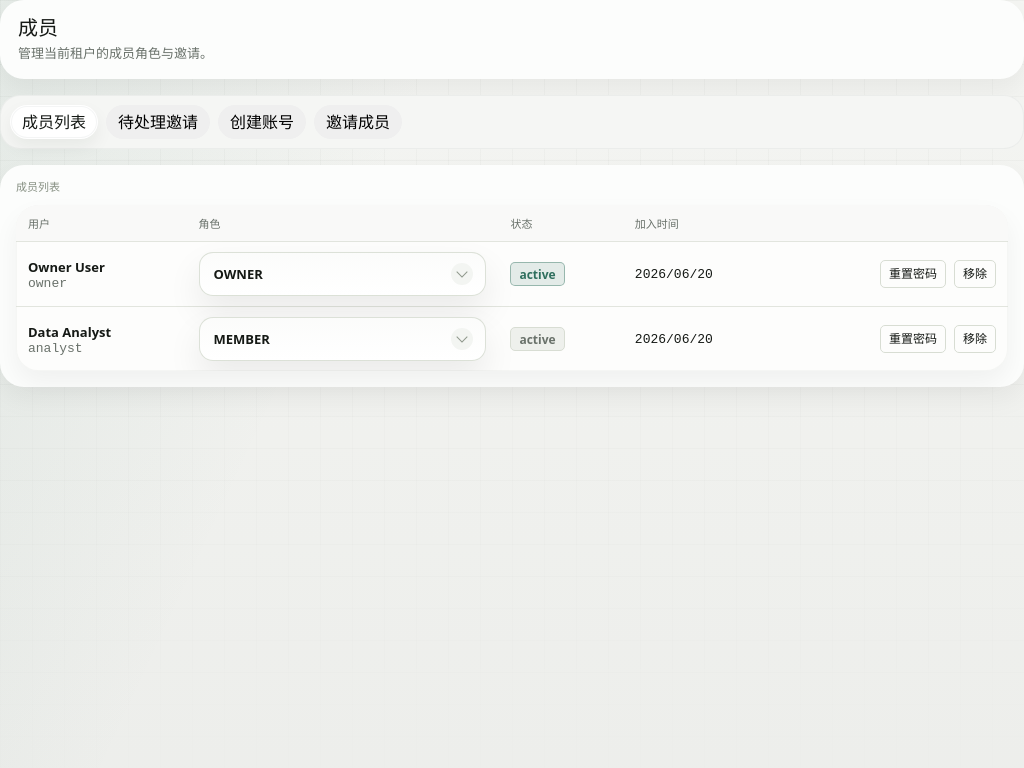
Test: MembersConsolePage tabs and workflows › separates members, invitations, create account, and invite workflows into tabs
Expected: the tab "成员列表" is shown, [10,105,98,139]
Expected: the text "Owner User" is shown, [28,258,105,276]
Click the tab "待处理邀请": click(158, 122) [106,105,210,139]
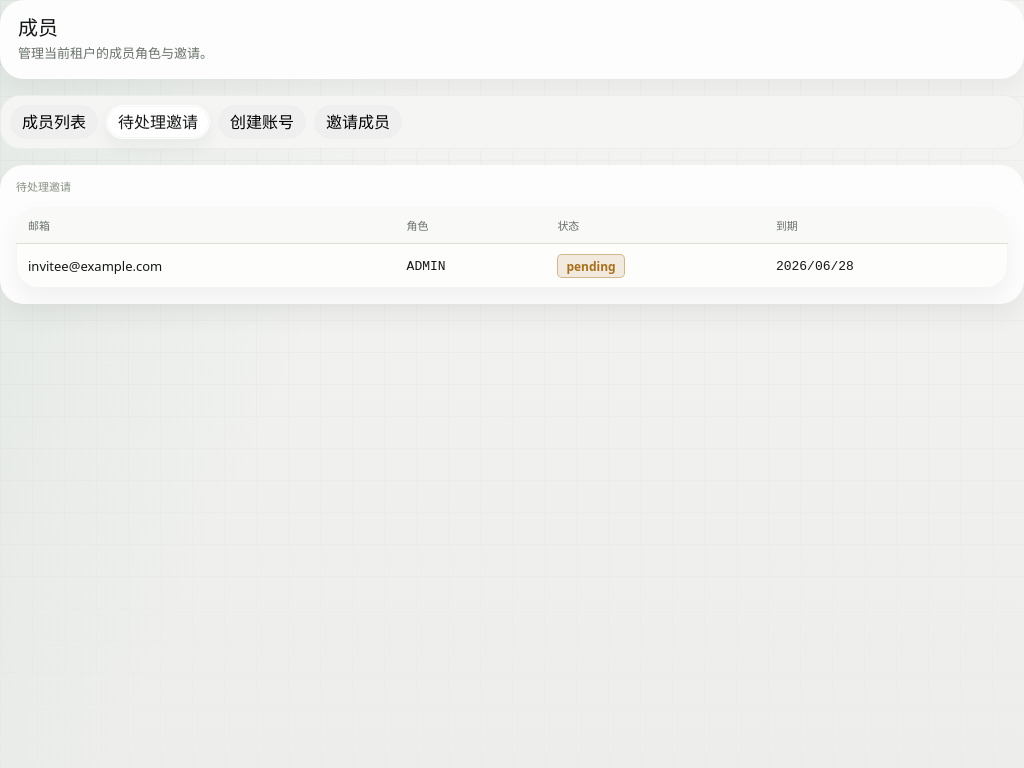
Expected: the text "invitee@example.com" is shown, [16,244,395,288]
Expected: the text "Owner User" is gone
Click the tab "创建账号": click(262, 122) [218,105,306,139]
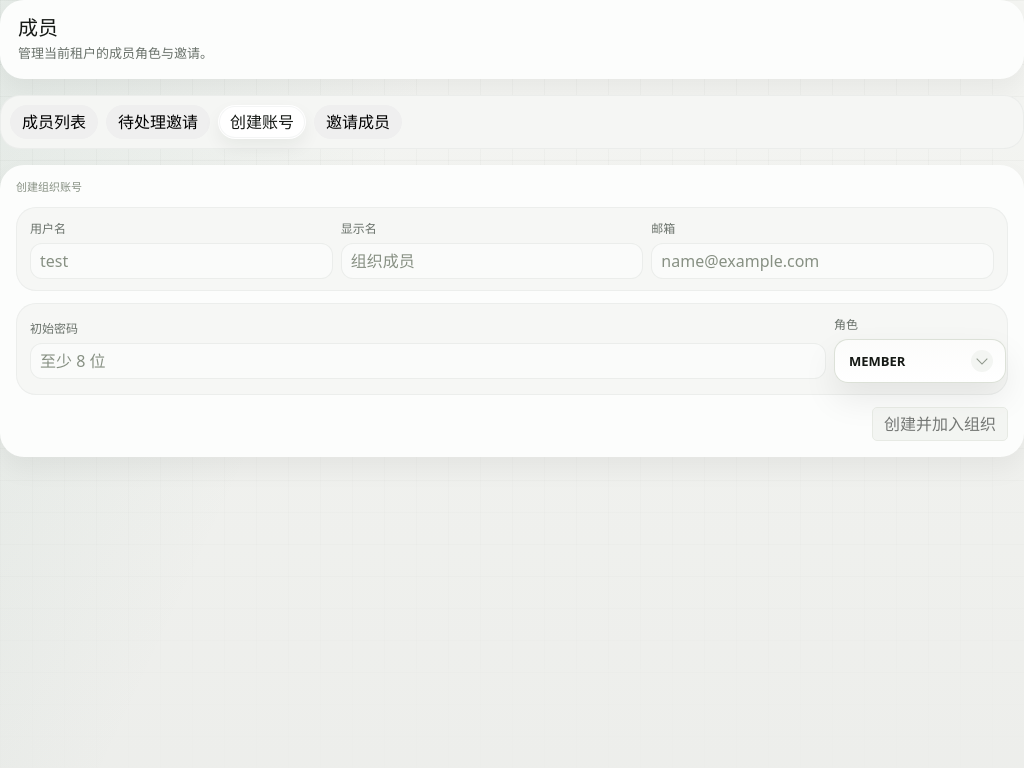
Expected: the field labelled "用户名" is shown, [30,243,333,279]
Expected: the text "invitee@example.com" is gone
Click the tab "邀请成员": click(358, 122) [314,105,402,139]
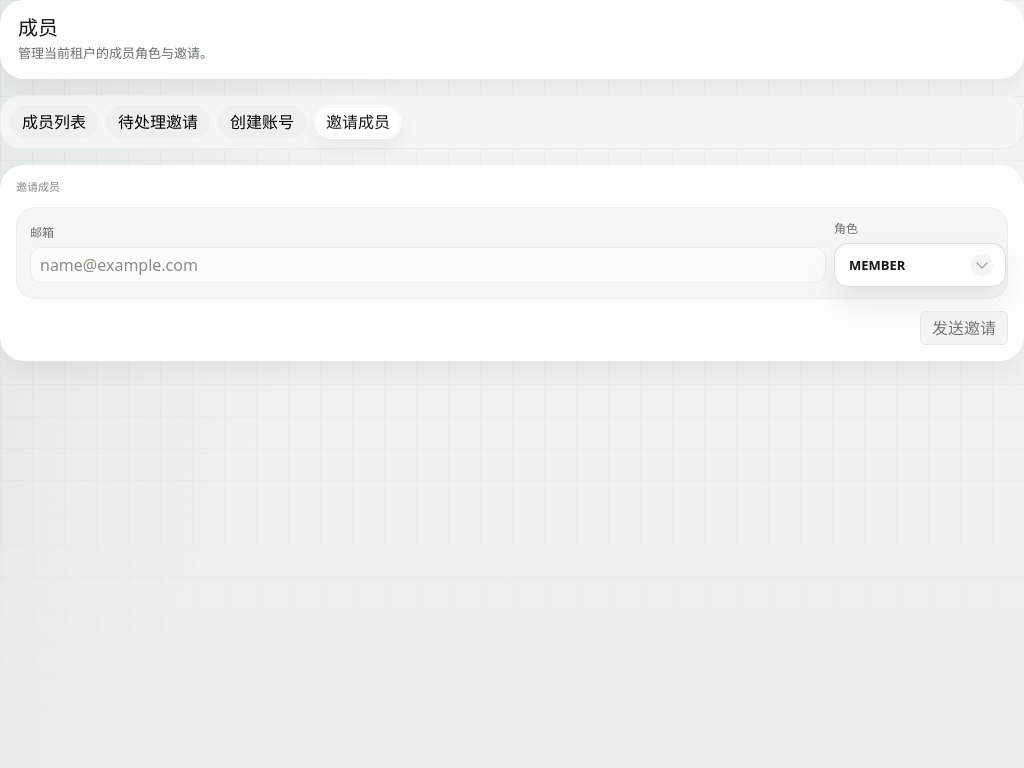
Expected: the button "发送邀请" is shown, [920,311,1008,345]
Expected: the text labelled "用户名" is gone
